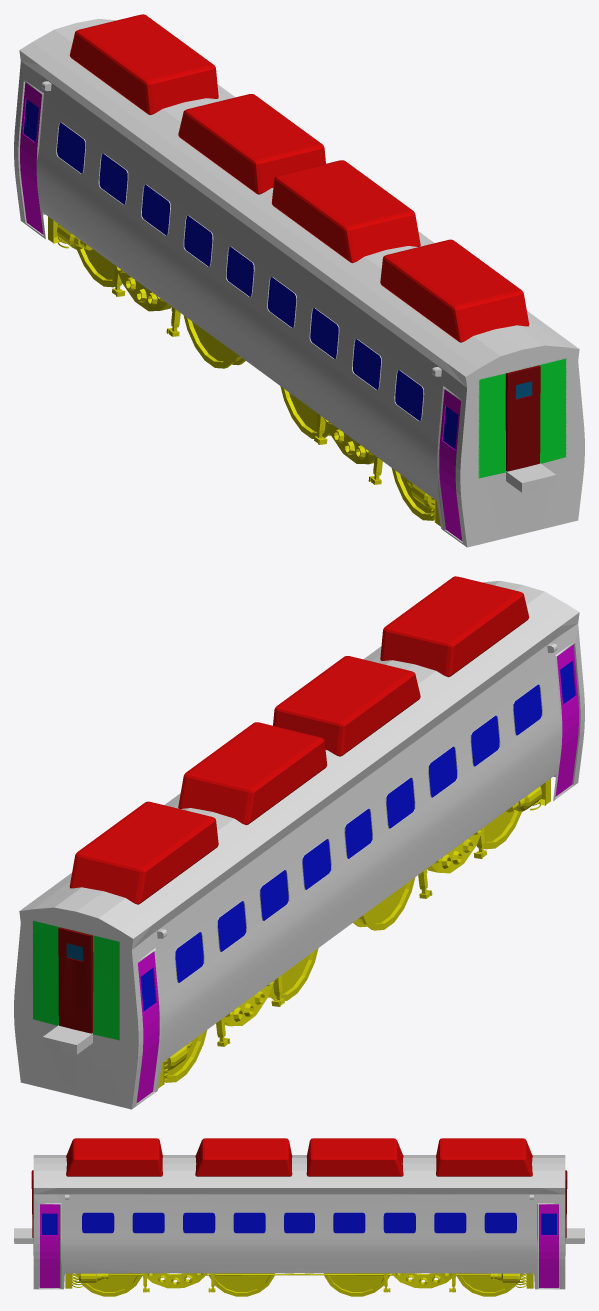
File: TrainChildeScalM.fbx
The picture shows the model from 3 angles, top to bottom: view 1: azimuth 30°, elevation 25°; view 2: azimuth 150°, elevation 25°; view 3: azimuth 270°, elevation 25°; orthographic projection. The views are drawn at different scales.
Visible parts, largest first — view 1: ChildTrain; view 2: ChildTrain; view 3: ChildTrain.
Part boxes in pixels (x1,y1,x2,y2): ChildTrain: [14, 14, 584, 547]; ChildTrain: [14, 576, 584, 1109]; ChildTrain: [14, 1138, 584, 1296].
Bounding box in the file's own units: 55.76 × 97.79 × 371.
